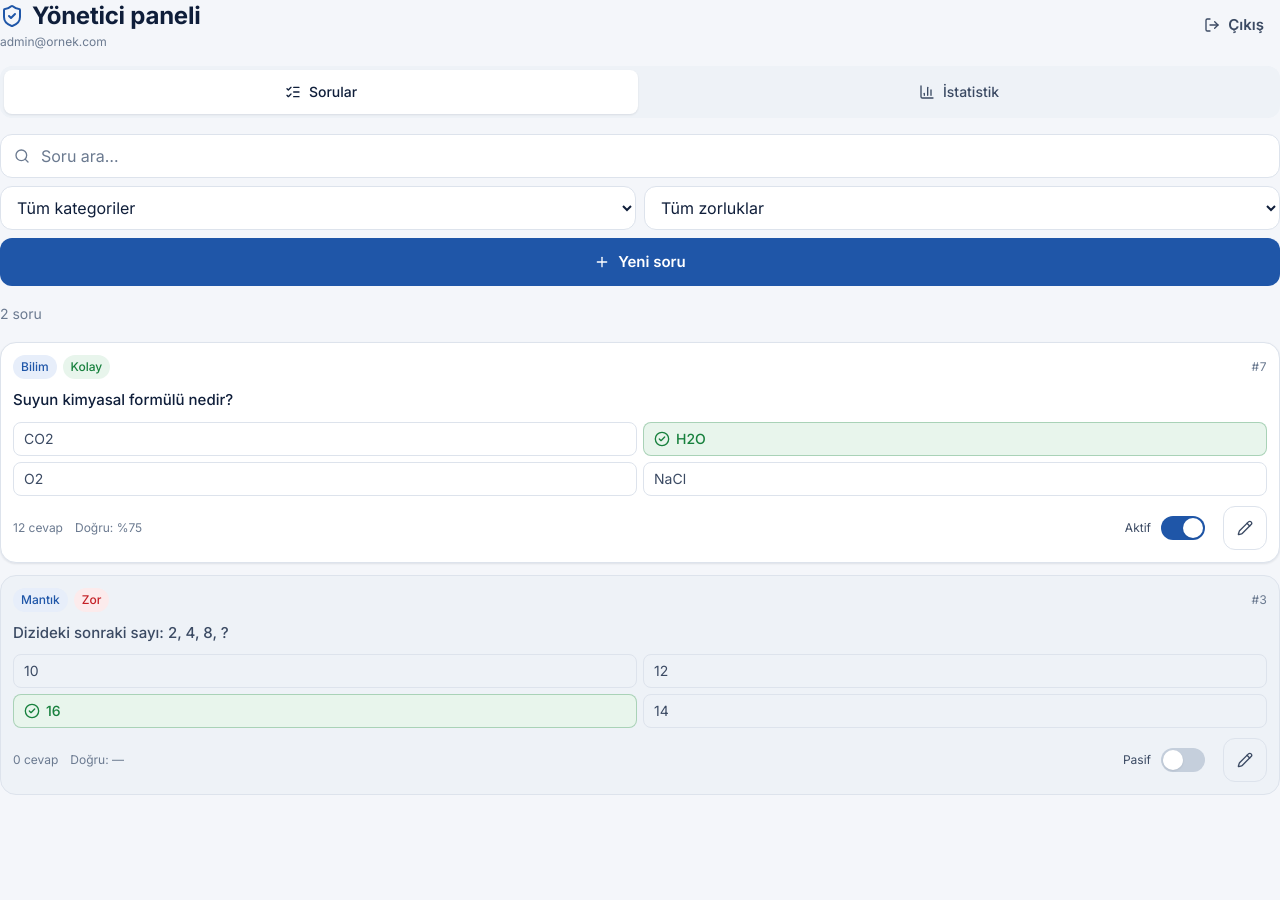
AdminScreen soru formu › mevcut soruyu düzenler ve sunucu hatasını gösterir
The width and height of the screenshot is (1280, 900).
Expected: the text "Suyun kimyasal formülü nedir?" is shown, [13,390,233,409]
Click the button named "Soru #3 düzenle": coordinates (1245, 760) [1223,738,1267,782]
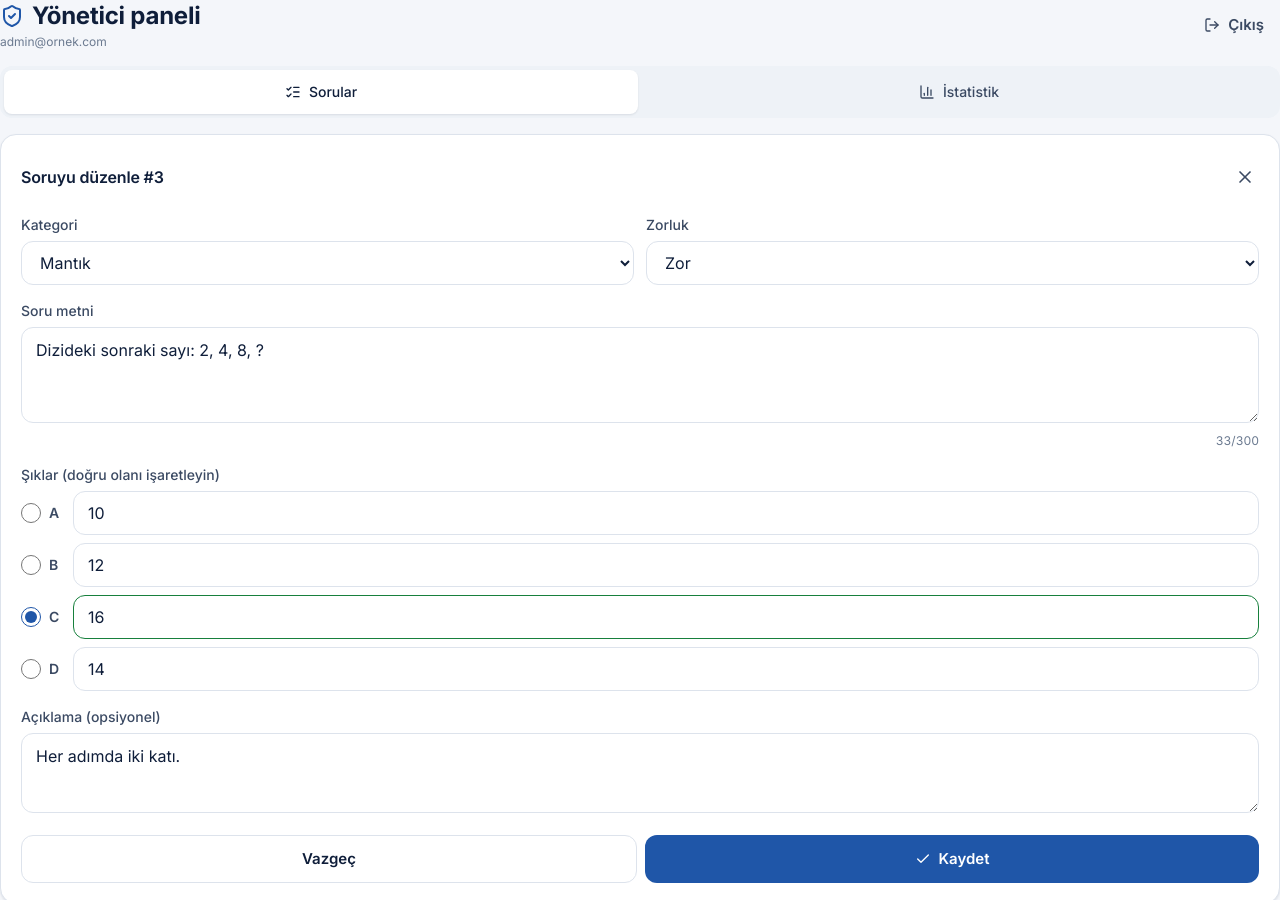
Result: the text box labelled "Soru metni" holds "Dizideki sonraki sayı: 2, 4, 8, ?" at [21,327,1259,423]
Result: the radio button named "Doğru şık C" is checked at [21,607,41,627]
Result: the dropdown labelled "Kategori" shows "Mantık" at [21,241,634,285]
Click the button "Kaydet": coordinates (952, 859) [645,835,1259,883]
(page scrolled)
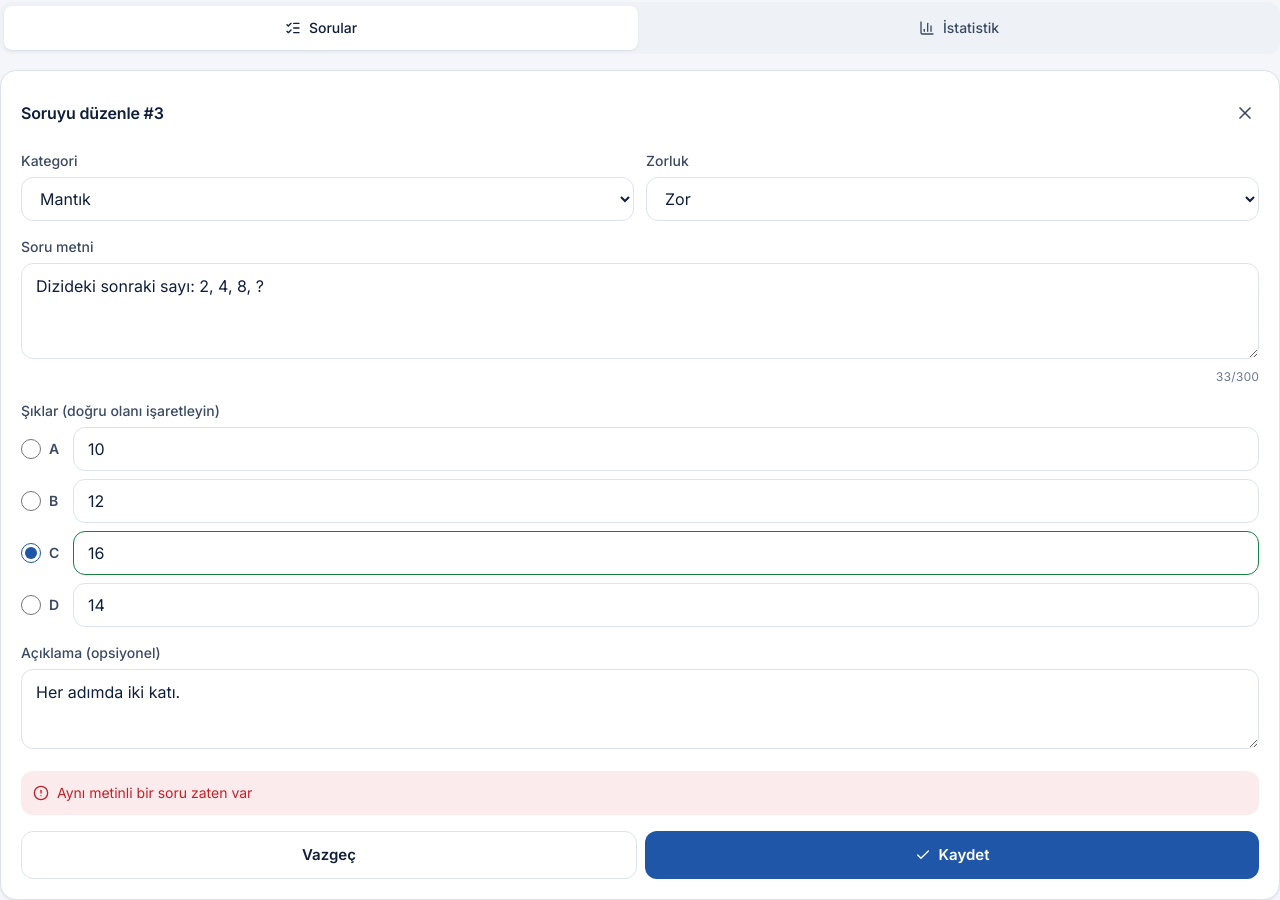
Result: the form named "Soru formu" is shown
Result: the message reads "Aynı metinli bir soru zaten var" at [57,784,252,801]
